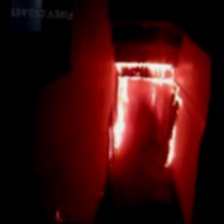fire: (102, 62, 181, 173)
